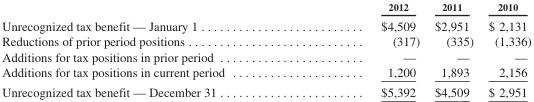table: (1, 0, 530, 98)
table column: (1, 0, 302, 98), (302, 0, 426, 98), (426, 0, 480, 98), (480, 0, 530, 98)
table column header: (1, 0, 530, 15)
table row: (1, 15, 530, 33), (1, 63, 530, 81), (1, 81, 530, 98), (1, 0, 530, 15), (1, 33, 530, 48), (1, 48, 530, 63)
